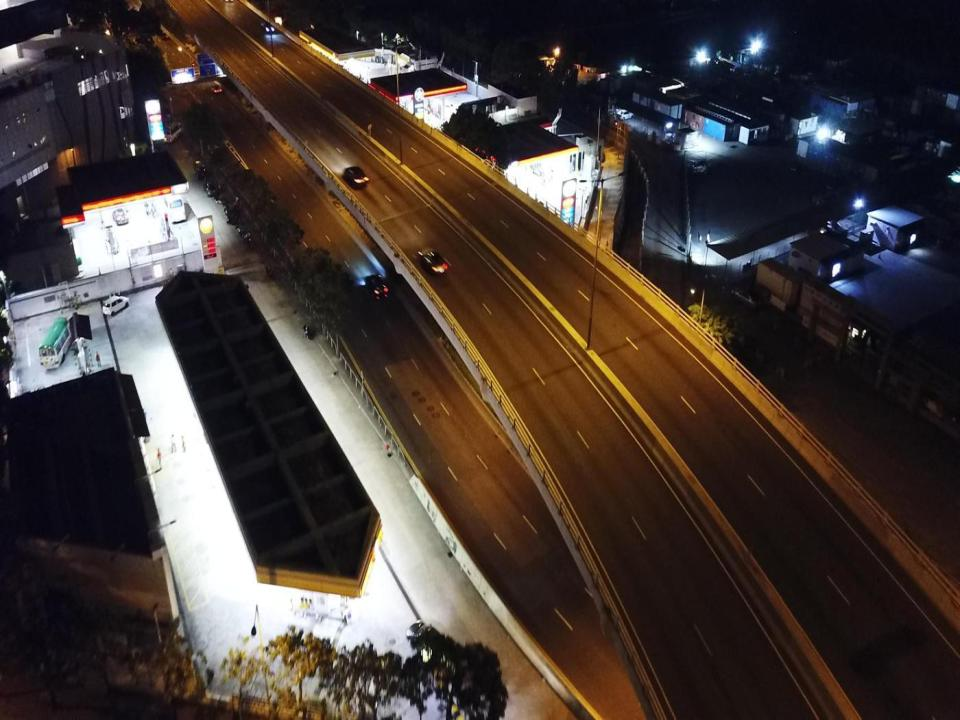bus: (38, 317, 74, 369), (160, 172, 186, 223), (164, 120, 182, 144)
car: (732, 285, 765, 311), (417, 249, 448, 274), (363, 274, 387, 301), (102, 295, 130, 316), (343, 166, 369, 187), (203, 176, 219, 197), (691, 159, 710, 174), (112, 208, 128, 225), (194, 159, 206, 179), (616, 108, 634, 119), (261, 21, 275, 34), (156, 30, 168, 40), (211, 84, 222, 94)
